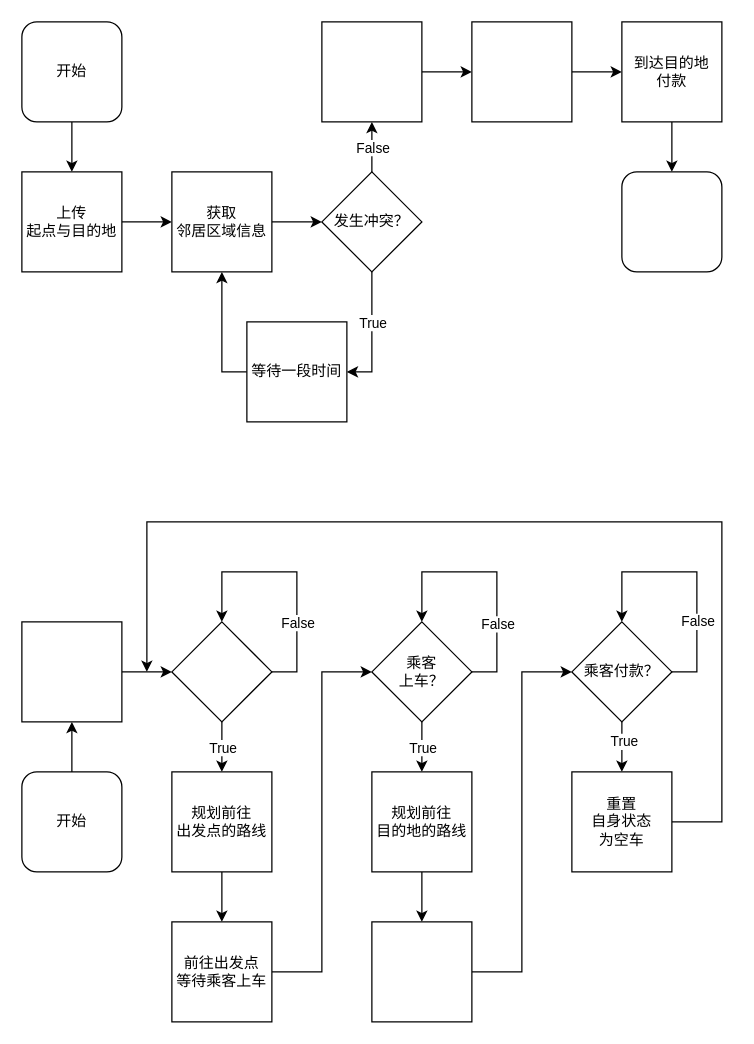
This 754x1044 diagram has some shape labels left out. Each missing label, with the box of its shape:
上传 初始位置: (21, 621, 122, 722)
上车启程: (471, 21, 572, 122)
前往目的地 等待乘客 付款: (371, 921, 472, 1022)
有乘客 叫车？: (171, 621, 272, 722)
结束: (621, 171, 722, 272)
选择车辆 等待车辆到达: (321, 21, 422, 122)
